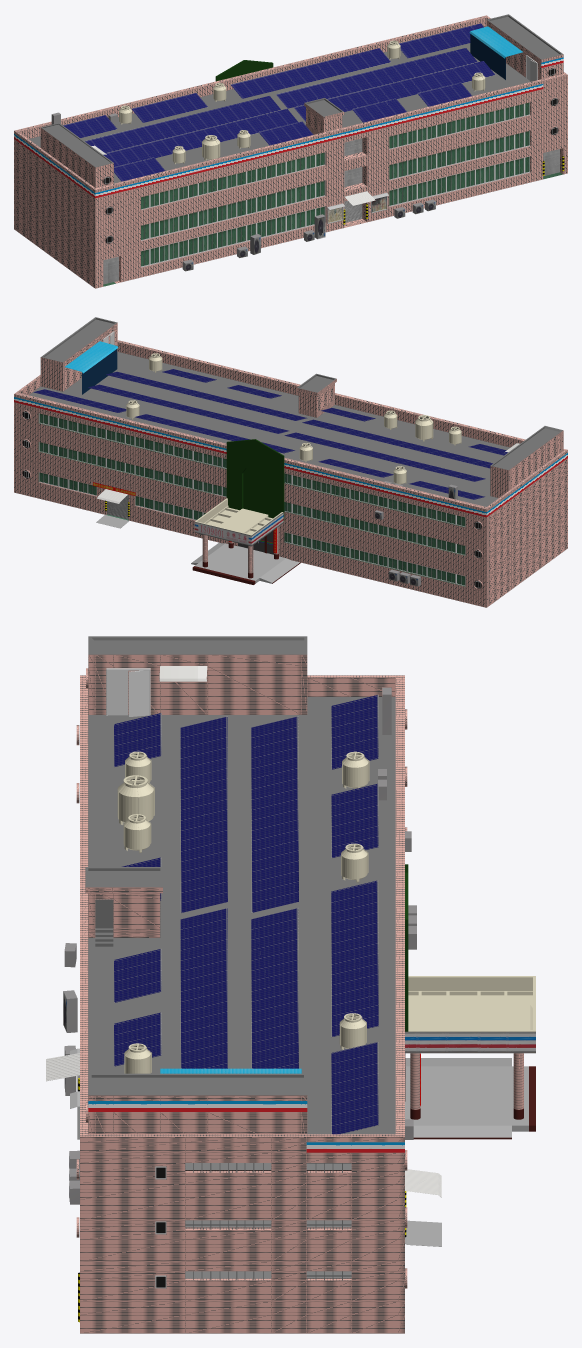
Rendered from favor_v9.fbx.
3 renders of one model, top to bottom at view 1: azimuth 30°, elevation 25°; view 2: azimuth 150°, elevation 25°; view 3: azimuth 270°, elevation 25°, orthographic. The views are drawn at different scales.
Visible parts, largest first — view 1: VR大樓; view 2: VR大樓; view 3: VR大樓.
Part boxes in pixels (left/top/right/bottom): VR大樓: left=14, top=14, right=567, bottom=288; VR大樓: left=14, top=317, right=567, bottom=607; VR大樓: left=46, top=636, right=535, bottom=1333.
Size of the model in its own units: 6033 by 1478 by 2706.
Materials: 38 (16 with a texture image).
